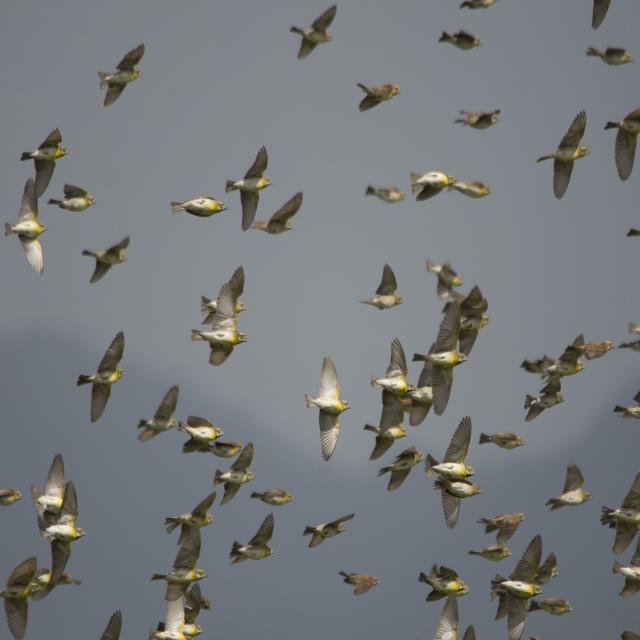bird: (411, 298, 465, 411), (492, 532, 545, 640), (38, 484, 83, 594), (306, 358, 352, 461), (150, 520, 212, 596), (78, 330, 128, 424), (537, 114, 592, 198), (600, 460, 640, 565), (4, 176, 48, 269), (195, 267, 249, 339), (228, 146, 271, 234), (0, 557, 43, 636), (452, 285, 492, 367), (362, 392, 408, 462), (100, 44, 148, 109), (602, 105, 640, 184), (147, 588, 207, 638), (187, 312, 246, 362), (410, 170, 490, 206), (20, 131, 71, 186), (212, 442, 256, 505), (290, 5, 338, 62), (164, 492, 217, 542), (432, 416, 476, 473), (83, 238, 132, 289), (433, 476, 478, 530), (140, 383, 181, 441), (29, 452, 73, 506), (230, 515, 278, 564), (256, 191, 306, 238), (359, 263, 405, 313), (368, 338, 413, 389), (304, 511, 358, 552), (547, 463, 594, 510), (418, 562, 470, 602), (381, 446, 426, 490), (520, 349, 580, 380), (180, 410, 224, 450), (525, 386, 569, 426), (50, 181, 96, 218), (453, 104, 503, 138), (171, 192, 227, 222), (582, 0, 638, 30), (426, 258, 465, 300), (71, 610, 125, 640), (426, 597, 463, 640), (473, 511, 524, 542), (357, 79, 402, 114), (613, 547, 640, 603), (585, 42, 634, 72), (567, 330, 614, 360), (437, 28, 482, 58), (615, 377, 640, 428), (528, 595, 576, 621), (482, 428, 526, 455), (340, 572, 382, 600), (468, 538, 513, 564), (366, 180, 406, 209), (251, 486, 296, 510), (0, 474, 22, 516), (536, 553, 562, 587)
